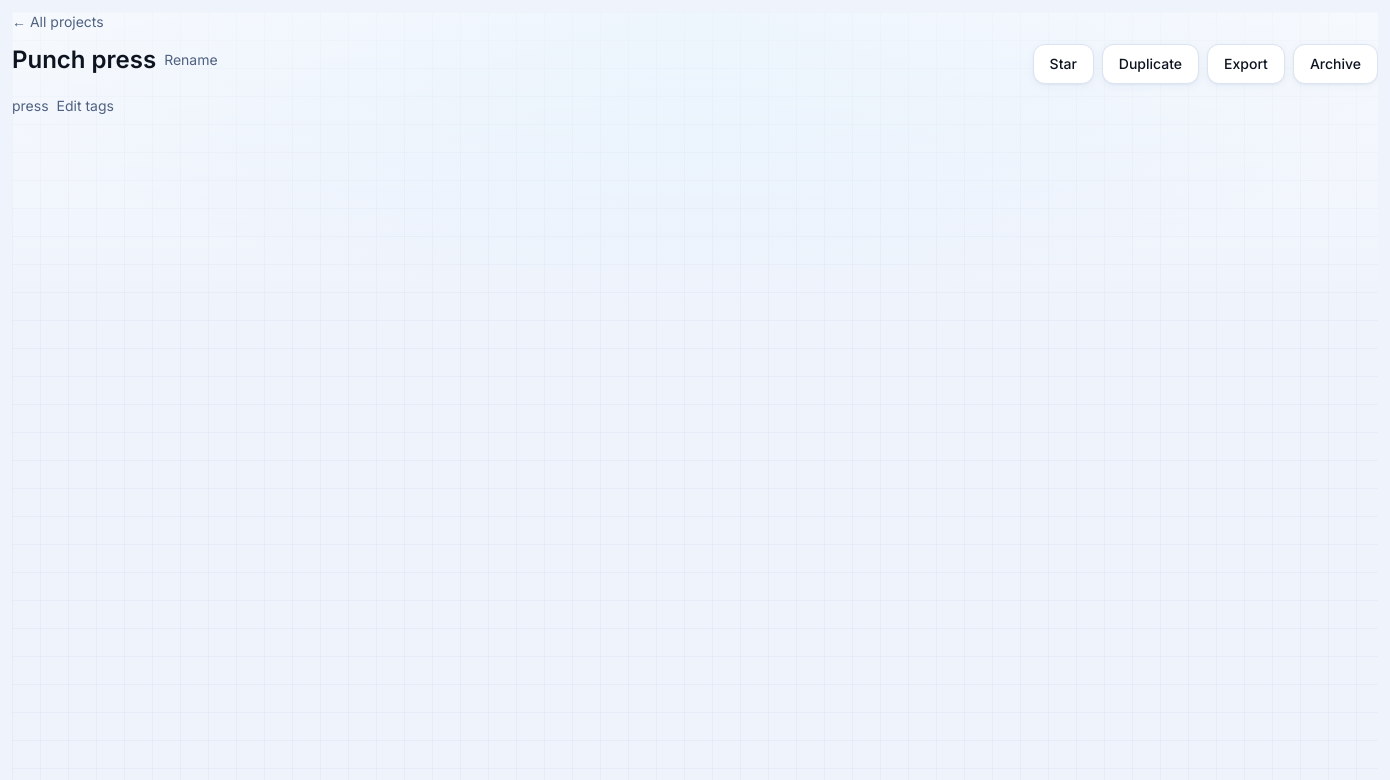
Test: ProjectHeader › sends tags as the list the user typed and shows the normalised result
This screenshot has width=1390, height=780.
Click the button "Edit tags".
click(85, 106)  # box top-left (56, 96), bottom-right (114, 116)
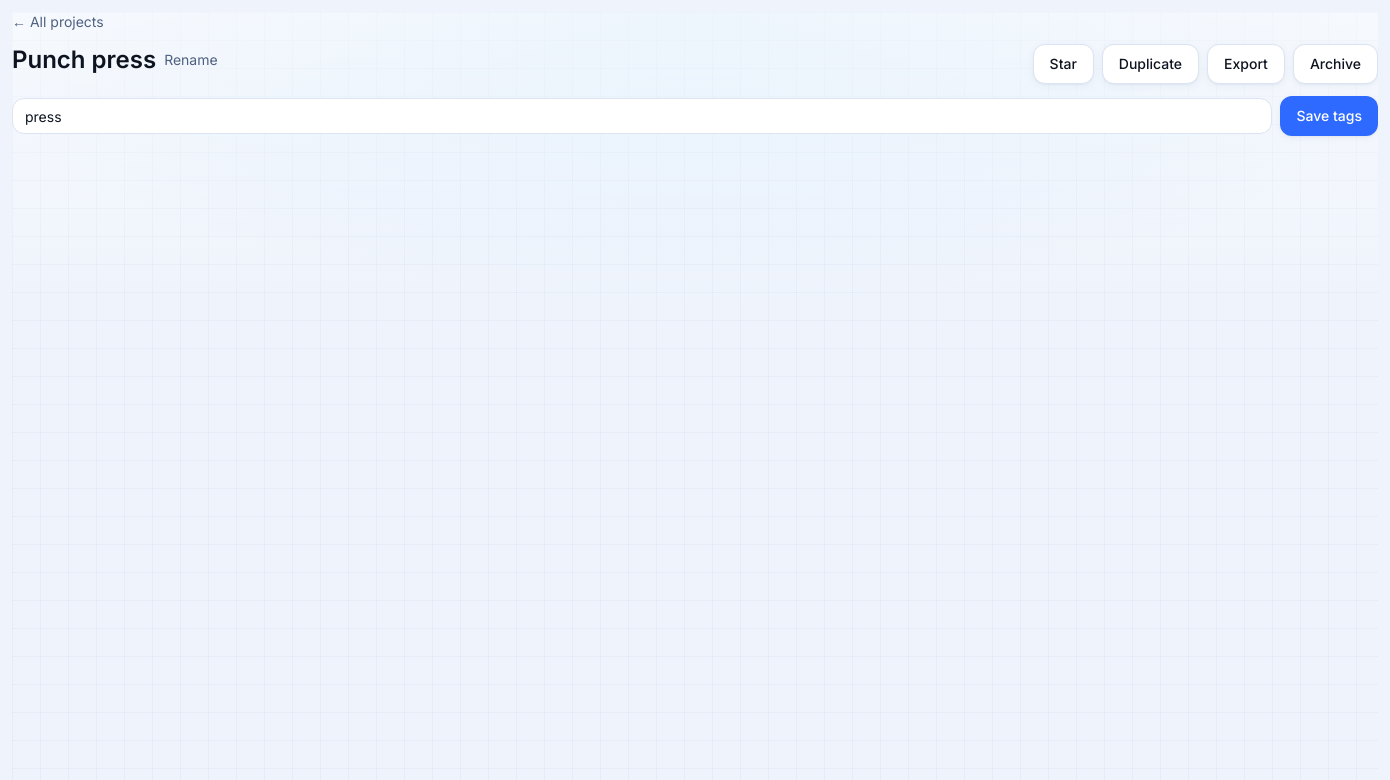
Replace the text in the field named "Tags, separated by commas" with "Press, frame," at (642, 116), box top-left (12, 98), bottom-right (1272, 134)
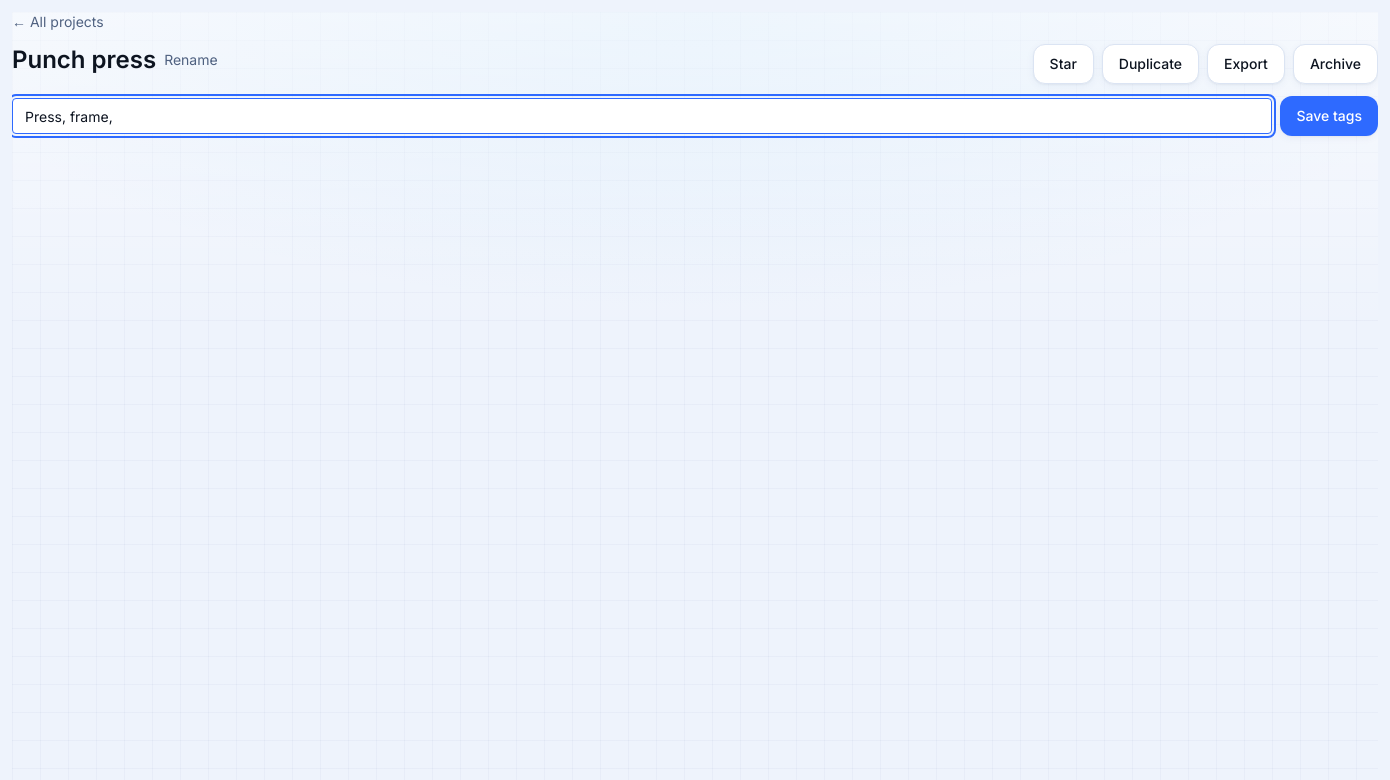
Click the button "Save tags".
click(1329, 116)  # box top-left (1280, 96), bottom-right (1378, 136)
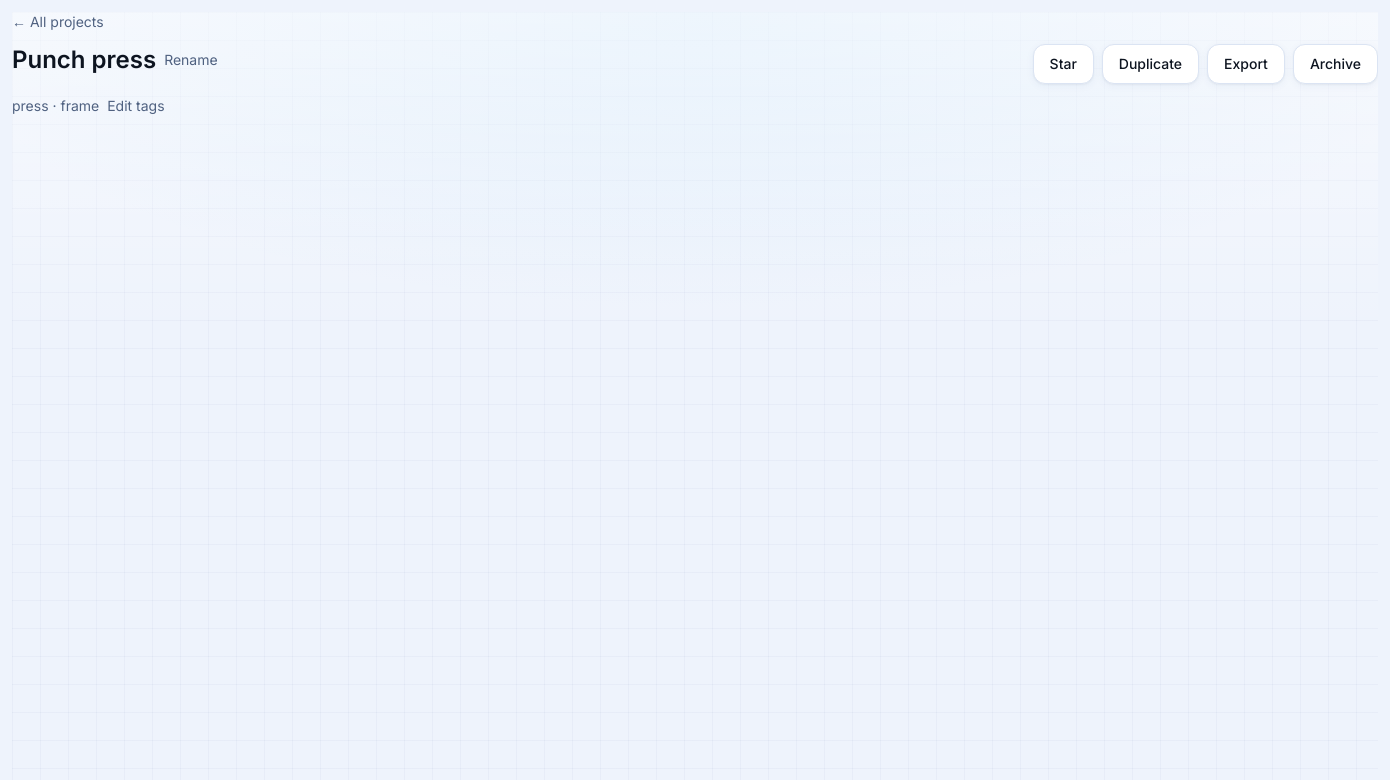
Expected: the text "press · frame" is shown, top-left (12, 97), bottom-right (99, 114)
